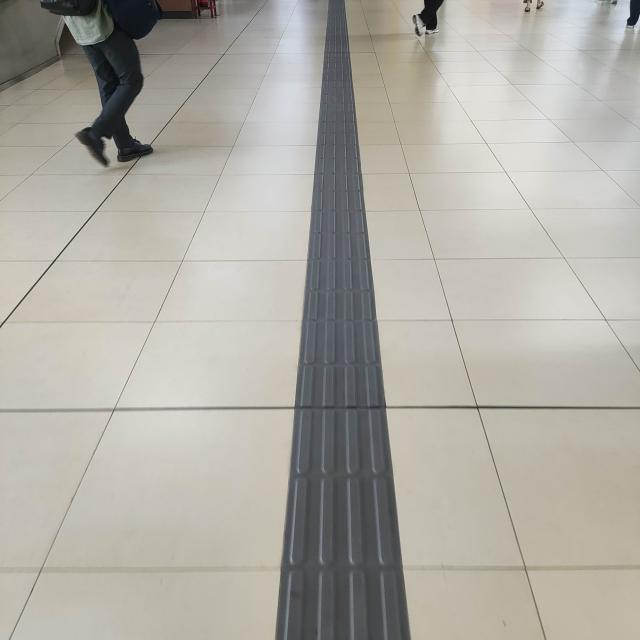lurus: (282, 6, 397, 640)
